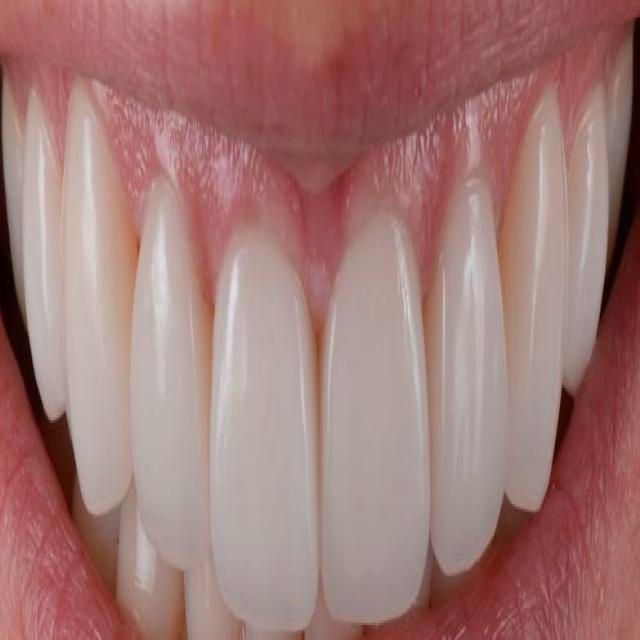1st Premolar: (564, 86, 609, 398), (24, 92, 65, 418)
2nd Premolar: (2, 85, 25, 330), (608, 43, 632, 256)
Canine: (63, 86, 133, 521), (499, 88, 569, 514)
Central Incisor: (210, 220, 319, 633), (319, 217, 430, 620)
Lateral Incisor: (424, 178, 508, 576), (132, 178, 211, 576)
